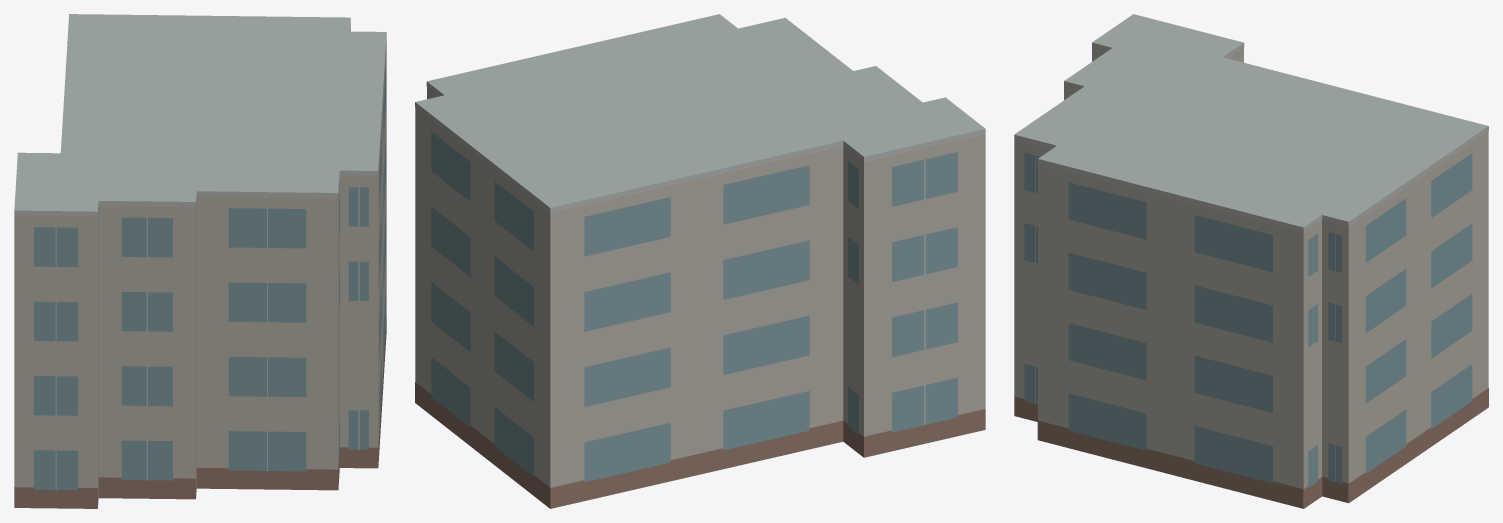
Rendered from survey-upis-32651951.glb.
3 views of the same model, side by side, from view 1: azimuth 30°, elevation 25°; view 2: azimuth 150°, elevation 25°; view 3: azimuth 270°, elevation 25° (orthographic). The views are drawn at different scales.
Visible parts, largest first — view 1: survey-upis-32651951.tmp; view 2: survey-upis-32651951.tmp; view 3: survey-upis-32651951.tmp.
Part boxes in pixels (x1,y1,x2,y2): survey-upis-32651951.tmp: [14, 14, 386, 508]; survey-upis-32651951.tmp: [415, 14, 985, 508]; survey-upis-32651951.tmp: [1014, 14, 1488, 508].
Bounding box in the file's own units: 22.3 × 13.7 × 20.95.
